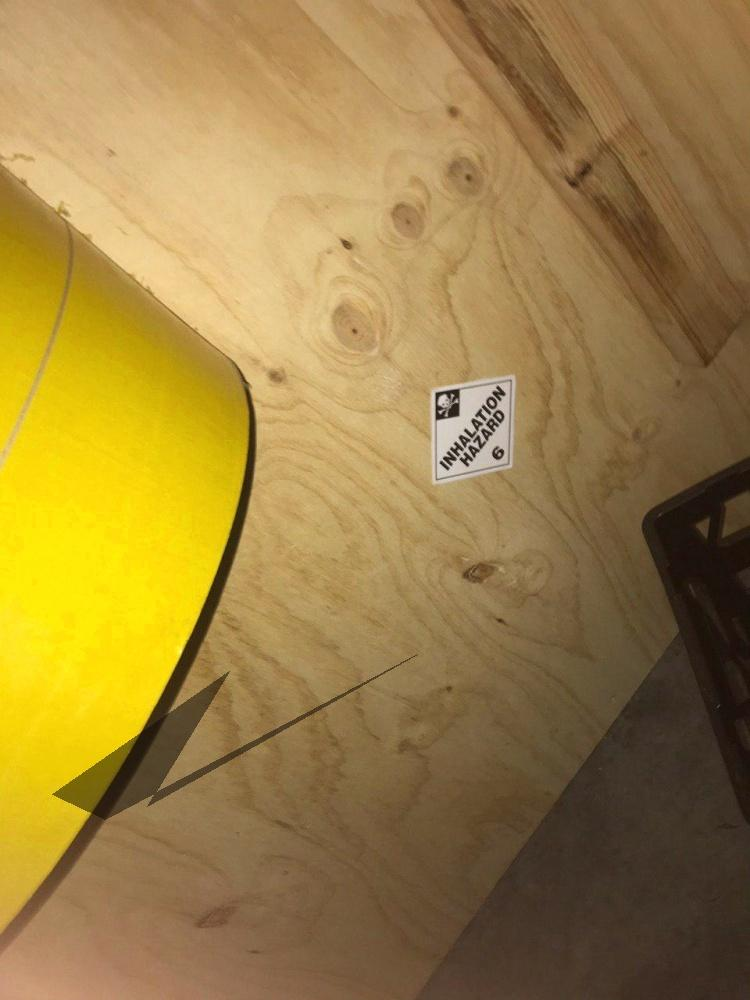poison: (431, 378, 521, 487)
